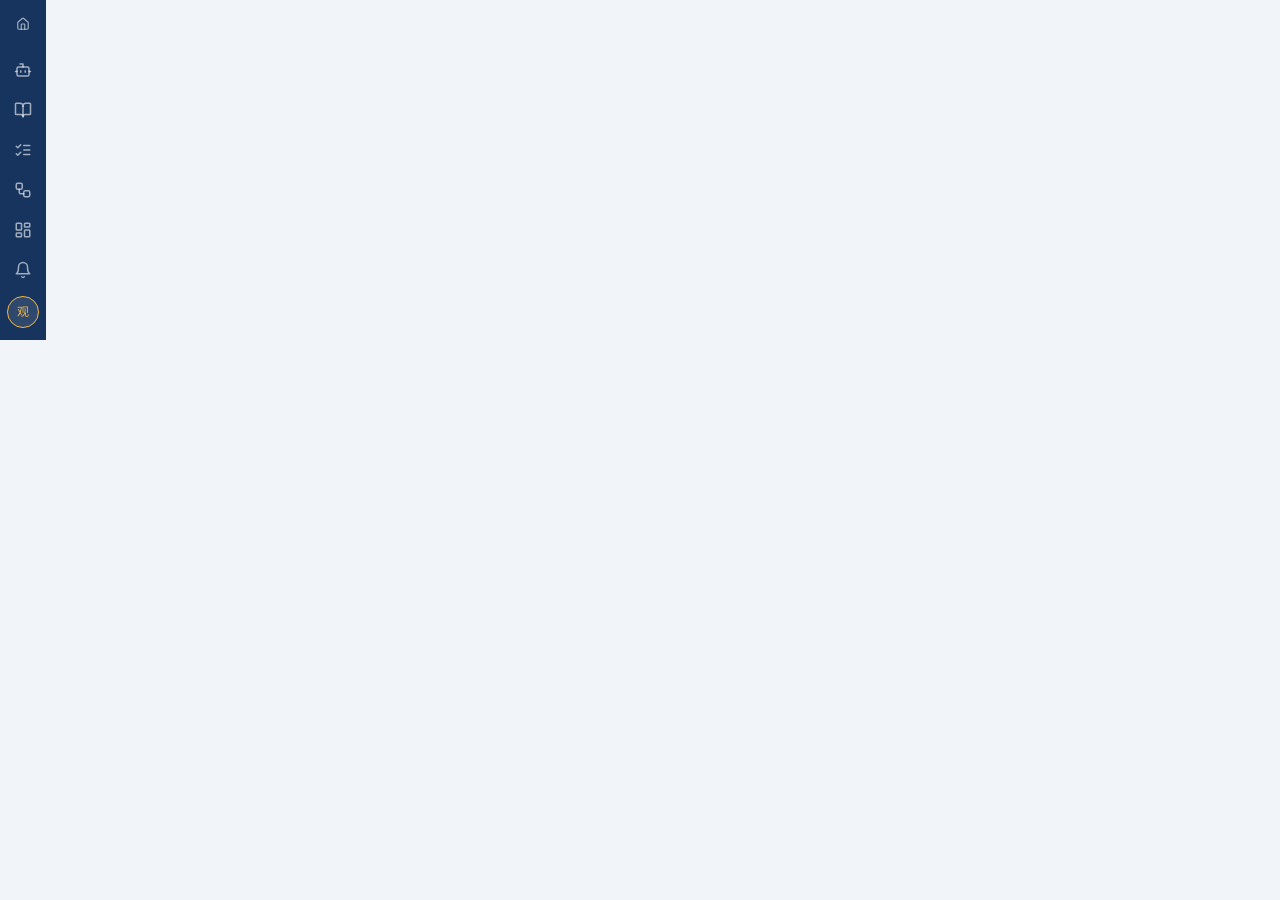
Test case: Rail · 提醒铃弹层（B-27；W10 / T2-49 接真实待办 + D-10 文案 i18n 化） › 待办为空 → 无红点；点击铃铛弹出固定宽高空态弹窗
Click the button with test id "rail-bell" at (23,270), box left=5, top=252, right=41, bottom=288
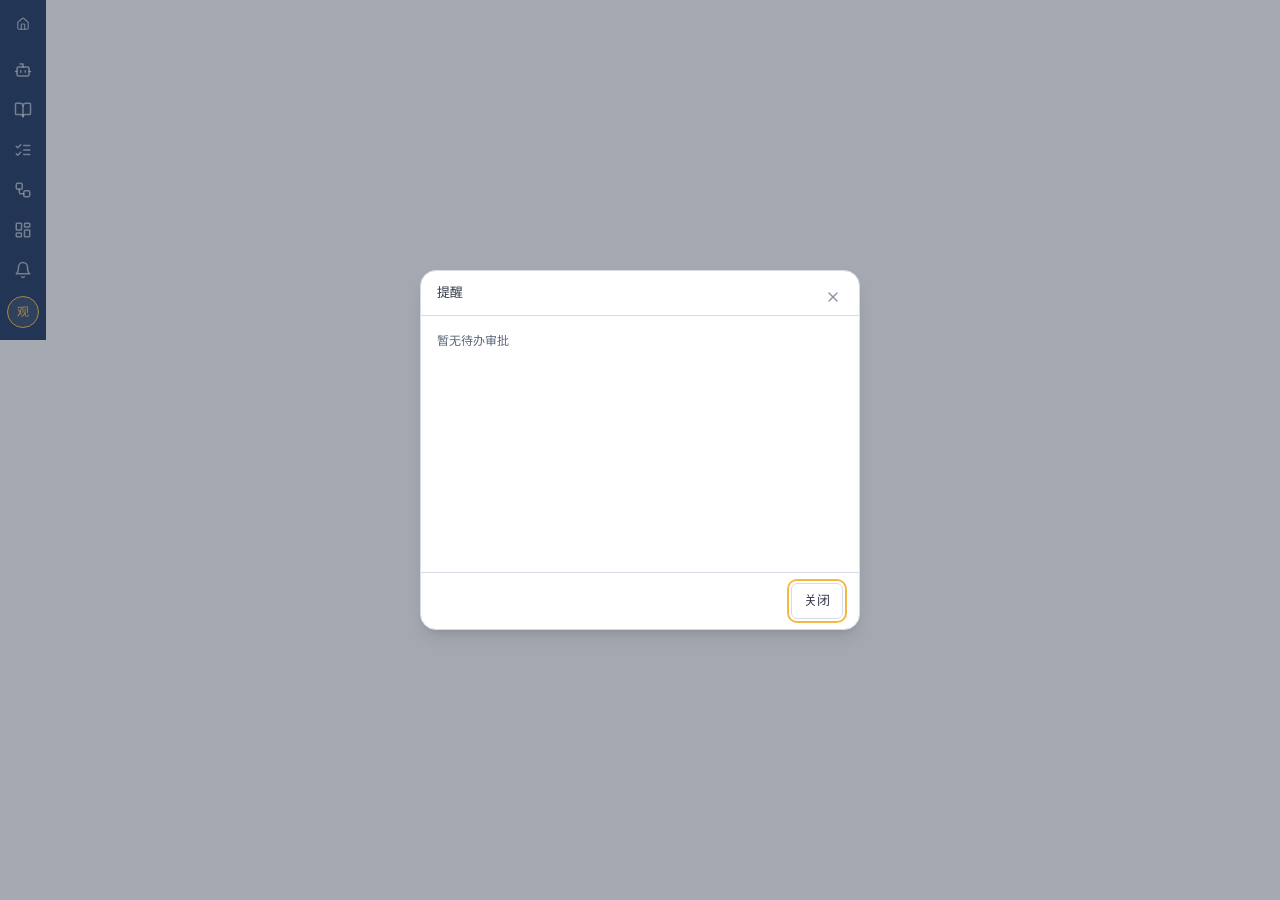
Check: the dialog with test id "rail-notifications" is shown, box left=420, top=270, right=860, bottom=630
Check: the text with test id "rail-notifications-empty" reads "暂无待办审批", box left=437, top=332, right=509, bottom=348
Check: the button with test id "rail-notifications-close" reads "关闭", box left=791, top=583, right=843, bottom=619
